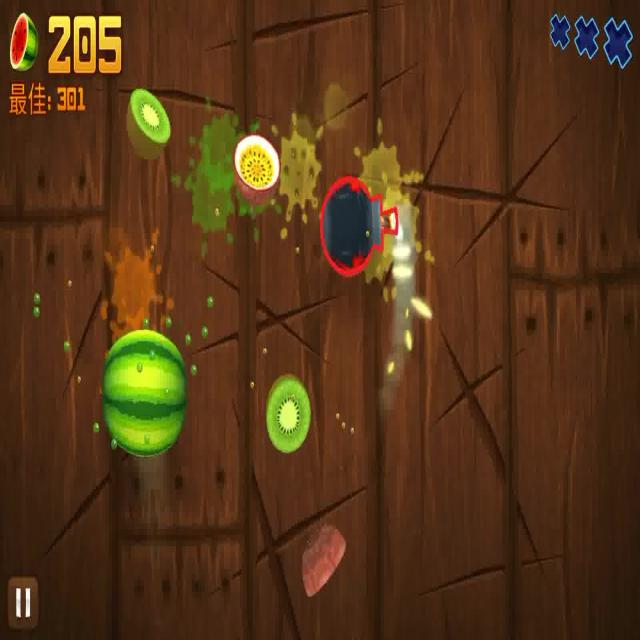bomb: (322, 172, 397, 276)
fruit: (102, 326, 186, 453), (264, 374, 316, 454), (123, 84, 173, 166), (298, 520, 347, 601), (229, 130, 279, 207)
